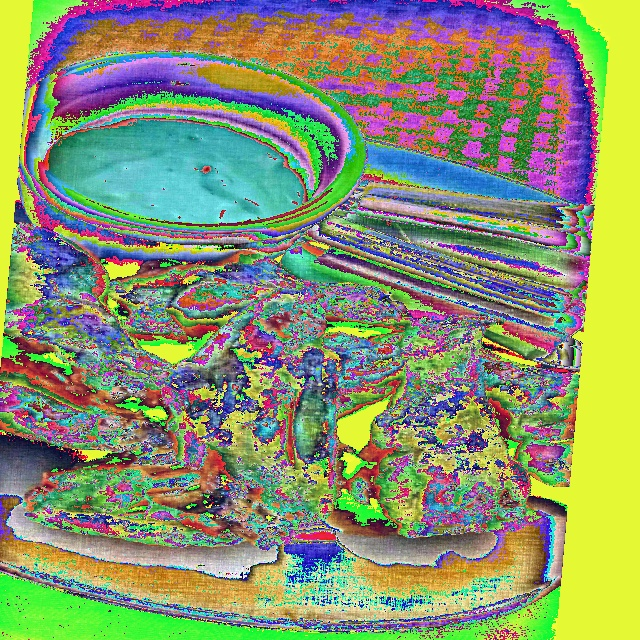background: (0, 181, 595, 550), (40, 108, 309, 224)
